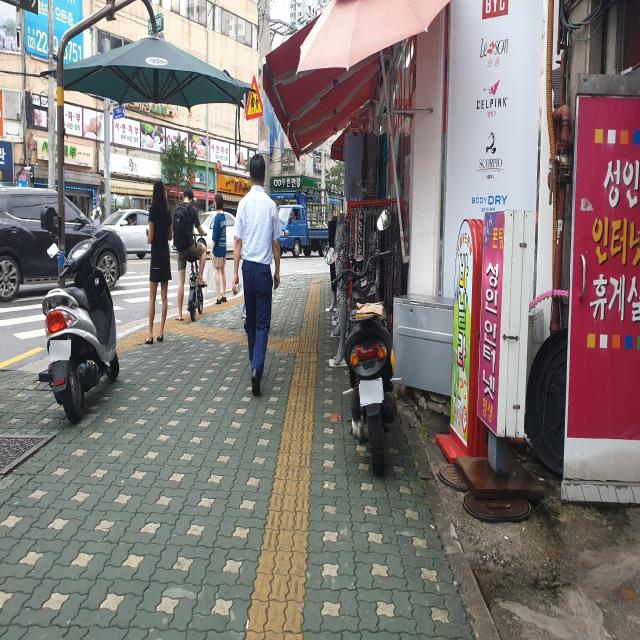car: (0, 187, 127, 302), (276, 185, 328, 258)
motorbike: (325, 209, 396, 477), (42, 205, 120, 425)
